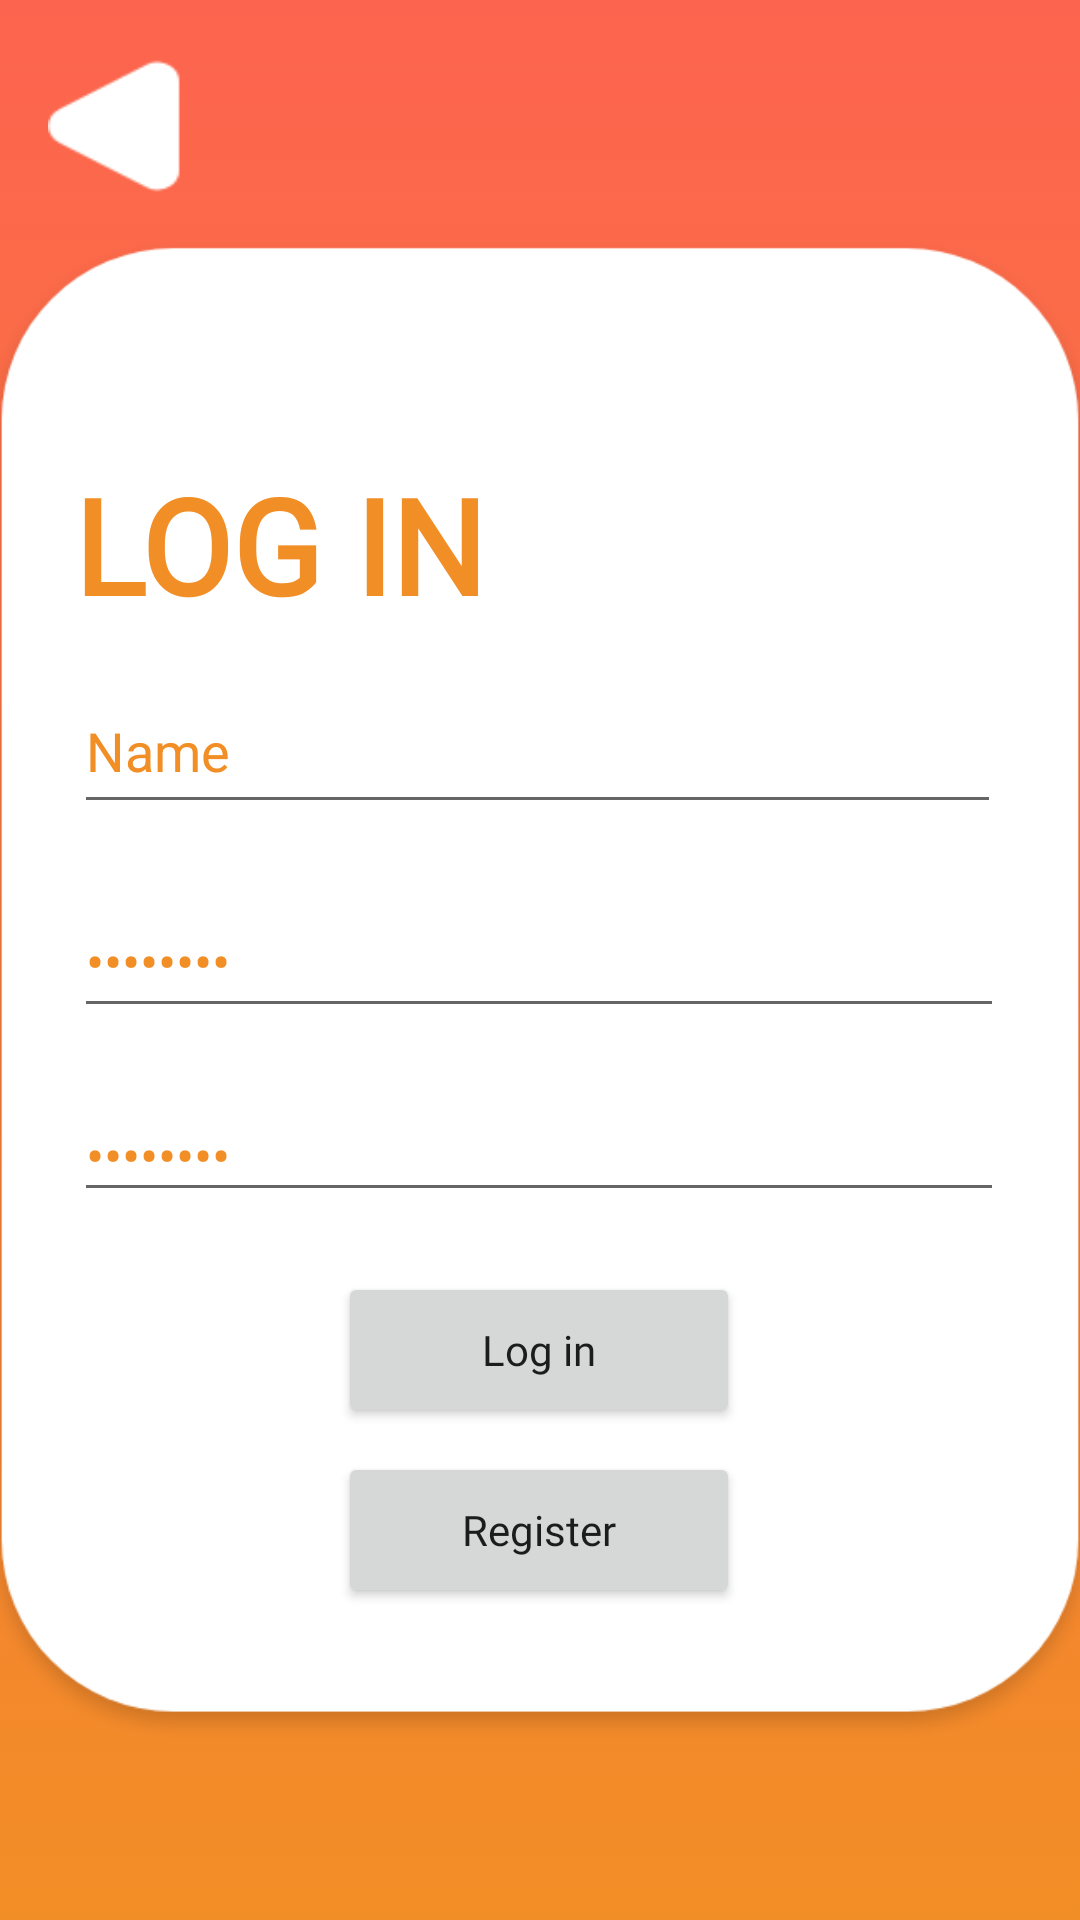

Named icons in this screenshot (1080 x 1920) and their bounding boxes, [x1=x1, y1=y1, x2=x2, y2=y2]:
polygon left: [x1=48, y1=61, x2=180, y2=191]
